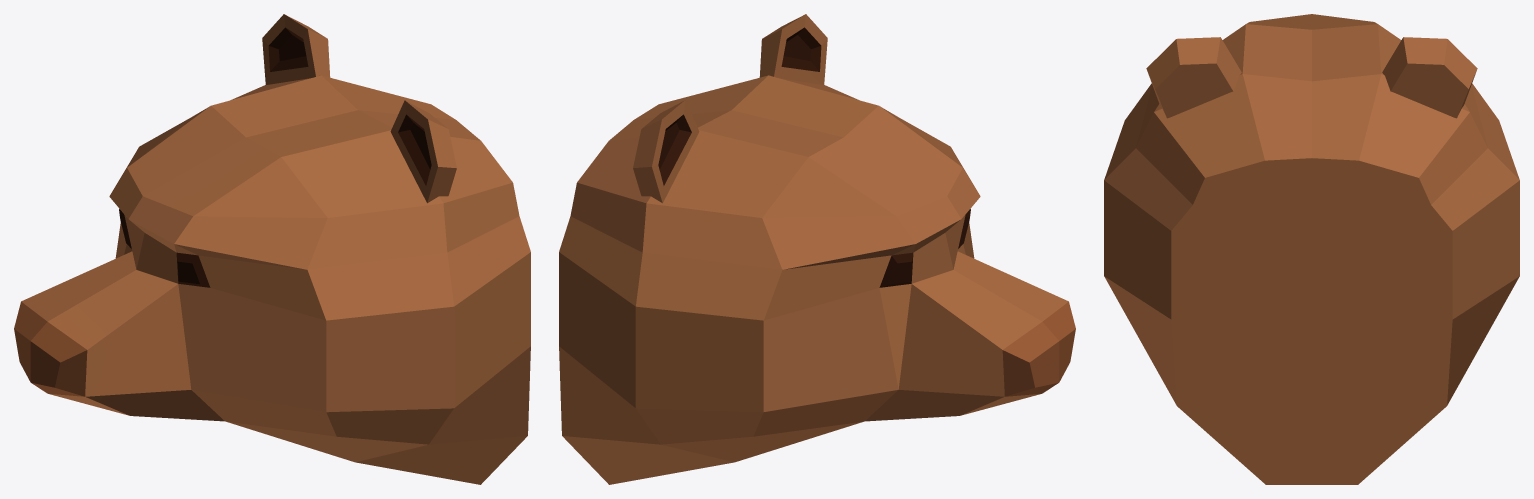
The model's file is SM_Bear_Head.fbx.
3 views of the same model, side by side, from view 1: azimuth 30°, elevation 25°; view 2: azimuth 150°, elevation 25°; view 3: azimuth 270°, elevation 25° (orthographic). The views are drawn at different scales.
Parts seen in each view (by area): view 1: SM_Bear_Head; view 2: SM_Bear_Head; view 3: SM_Bear_Head.
Part boxes in pixels (bbox=[...]): SM_Bear_Head: bbox=[14, 14, 530, 484]; SM_Bear_Head: bbox=[559, 14, 1075, 484]; SM_Bear_Head: bbox=[1104, 14, 1519, 484].
Bounding box in the file's own units: 49.91 × 47.83 × 44.85.
